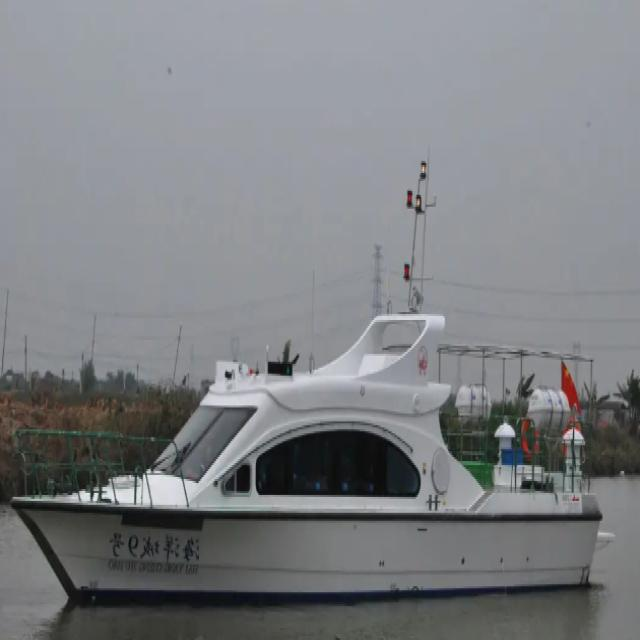houseboat: (3, 246, 614, 624)
